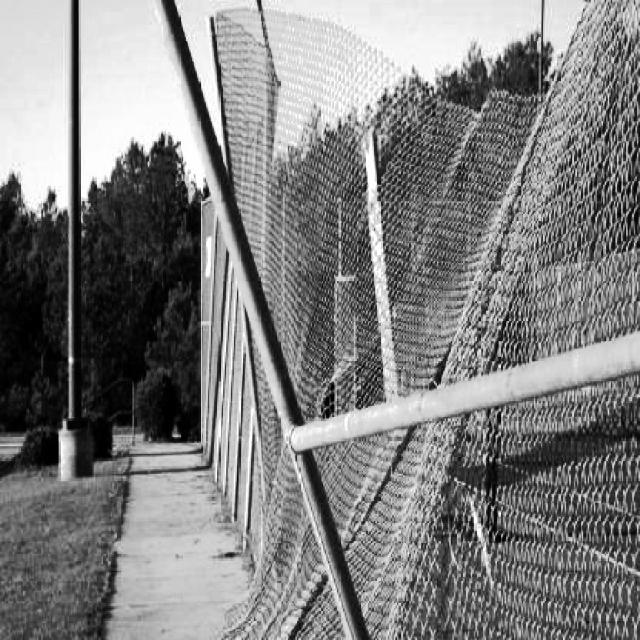anomaly-fence: (208, 3, 640, 639)
